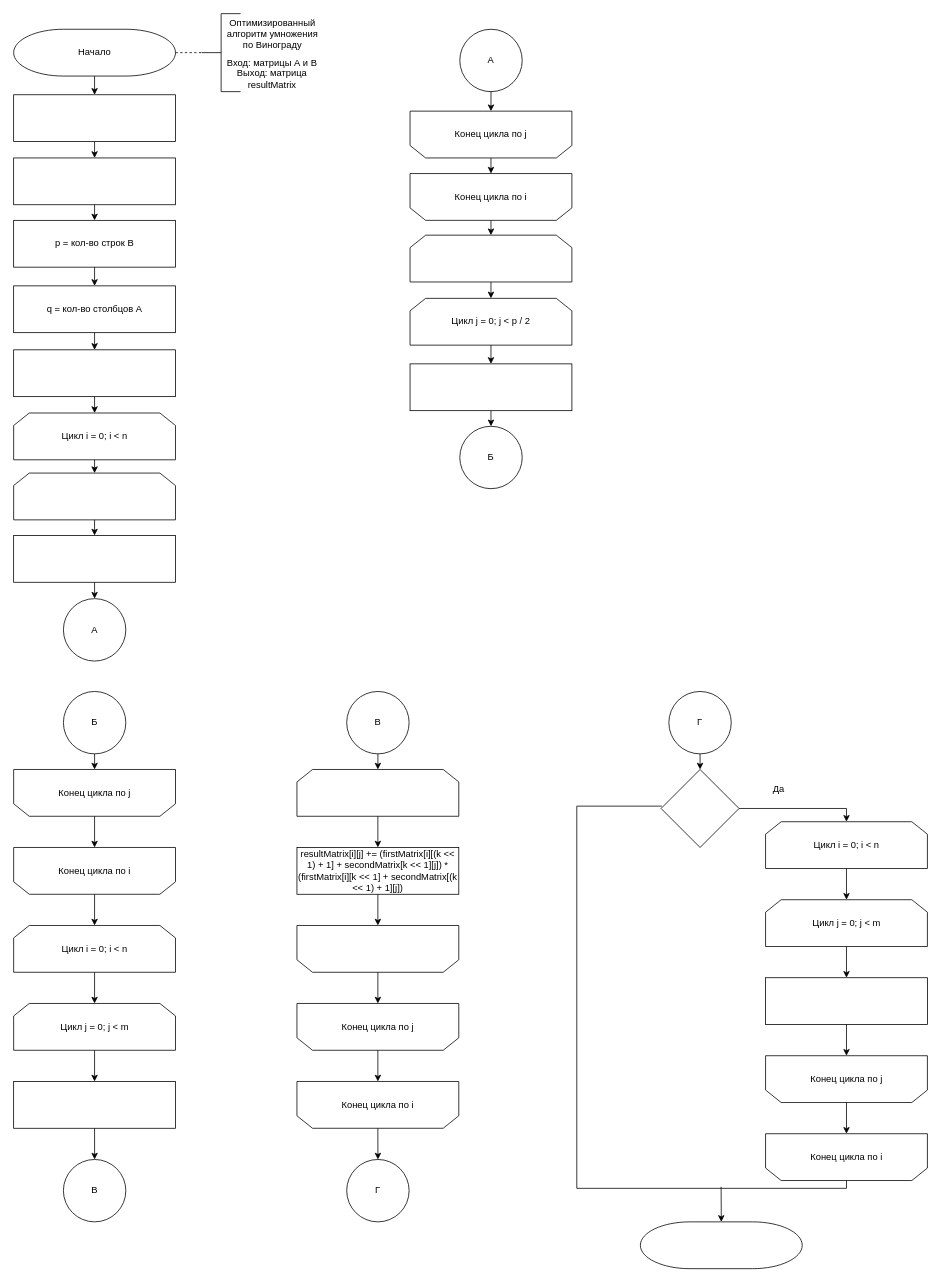
Image size: 941x1282. Some labels were removed from this diagram. Each missing label, with the centre of its shape:
"m = кол-во столбцов B" belongs at (x=94, y=181).
"n = кол-во строк А" belongs at (x=94, y=118).
"q % 2 == 1" belongs at (x=699, y=808).
"resultMatrix[i][j] += firstMatrix[i][q - 1] * secondMatrix[q - 1][j]" belongs at (x=846, y=1001).
"resultMatrix[i][j] = resultMatrix[i][j] - sumRow[i] - sumColumn[j]" belongs at (x=94, y=1104).
"sumColumn[i] += secondMatrix[j << 1][i] * secondMatrix[(j << 1) + 1][i]" belongs at (x=490, y=387).
"sumRow[i] += firstMatrix[i][j << 1] * firstMatrix[i][(j << 1) + 1]" belongs at (x=94, y=558).
"Конец" belongs at (x=721, y=1245).
"Конец цикла по k" belongs at (x=377, y=948).
"Создание массивов sumRow длинной n и sumColumn длинной m" belongs at (x=94, y=373).
"Цикл i = 0; i < m" belongs at (x=490, y=258).
"Цикл j = 0; j < q / 2" belongs at (x=94, y=496).
"Цикл k = 0; i < q / 2" belongs at (x=377, y=792).
